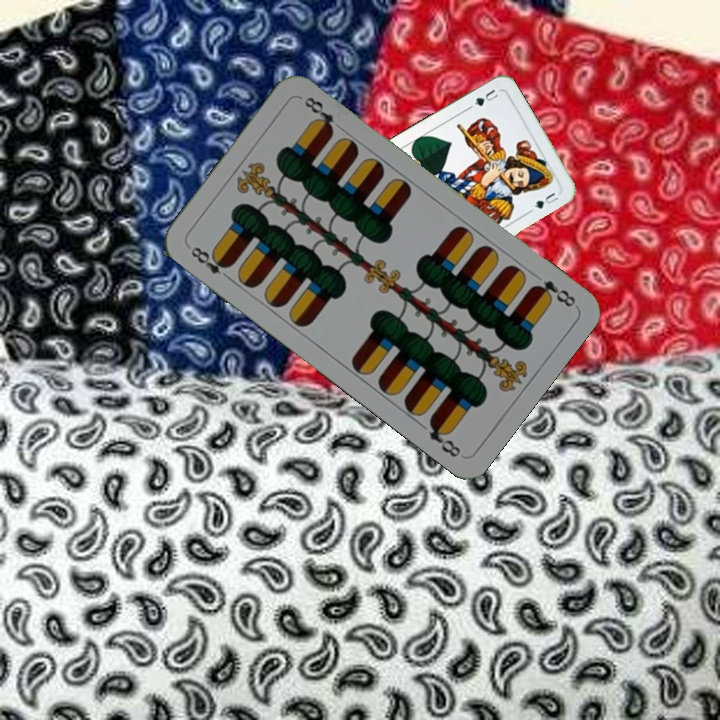E8: (186, 242, 234, 283), (528, 276, 579, 310)
GU: (470, 85, 501, 109)
